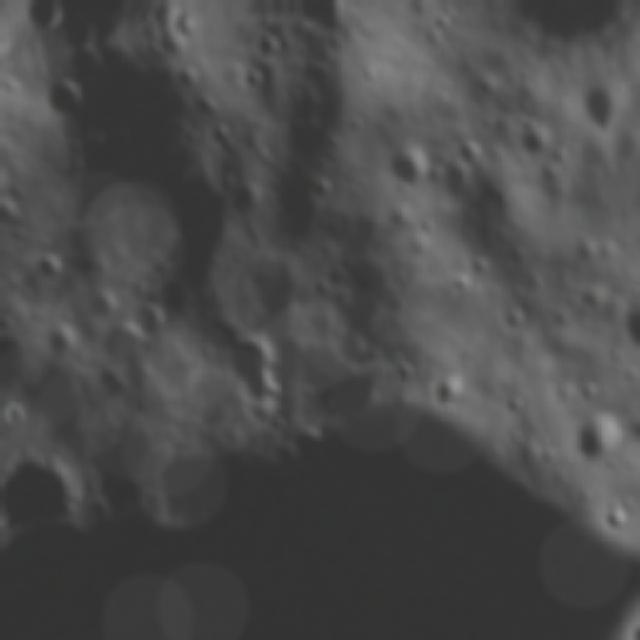crater: (557, 402, 631, 469), (34, 64, 100, 134), (91, 312, 149, 377), (418, 356, 476, 418), (382, 139, 440, 201), (290, 0, 359, 48), (586, 489, 639, 543), (120, 292, 177, 342), (508, 116, 562, 164), (82, 285, 125, 329), (23, 244, 66, 287), (446, 130, 489, 173), (236, 59, 276, 103), (248, 24, 288, 67)
